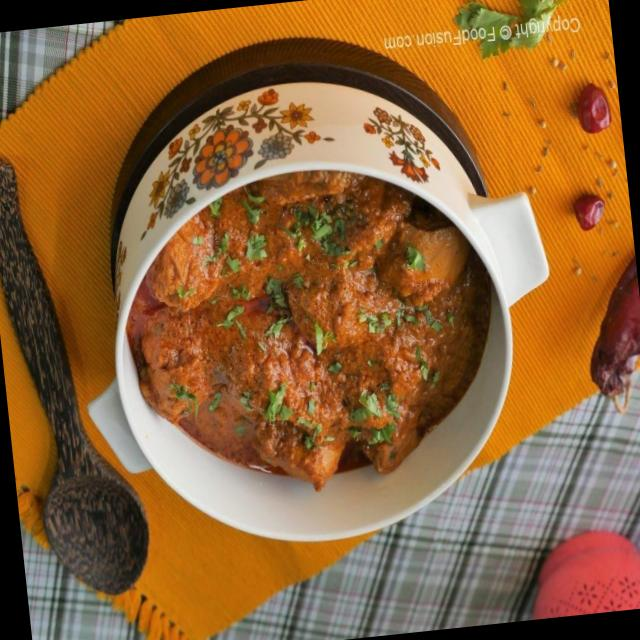chicken: (108, 165, 504, 499)
